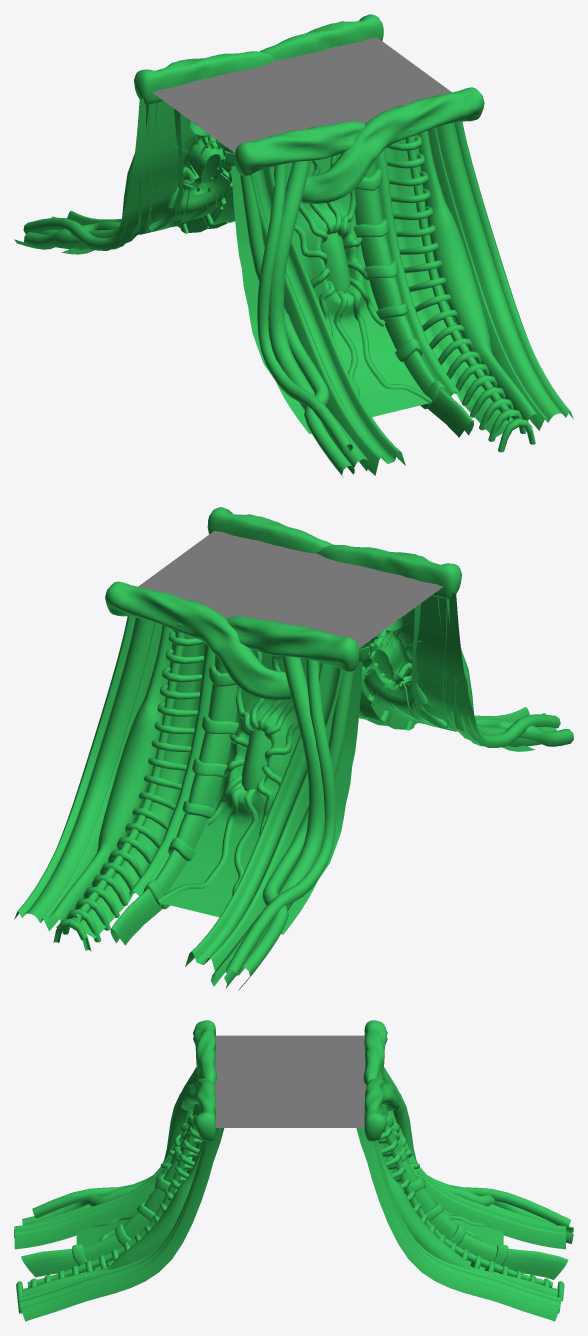
Rendered from Track_alien_01.fbx.
3 renders of one model, top to bottom at view 1: azimuth 30°, elevation 25°; view 2: azimuth 150°, elevation 25°; view 3: azimuth 270°, elevation 25°, orthographic. The views are drawn at different scales.
Visible parts, largest first — view 1: Side_Rock_01, Road_001; view 2: Side_Rock_01, Road_001; view 3: Side_Rock_01, Road_001.
Part boxes in pixels (x1,y1,x2,y2): Side_Rock_01: (14, 14, 573, 477); Road_001: (152, 37, 451, 152); Side_Rock_01: (14, 507, 573, 990); Road_001: (138, 531, 442, 648); Side_Rock_01: (14, 1020, 573, 1321); Road_001: (212, 1035, 367, 1127).
Size of what is drawn, in the model's own units: 3362 by 7700 by 3340.
